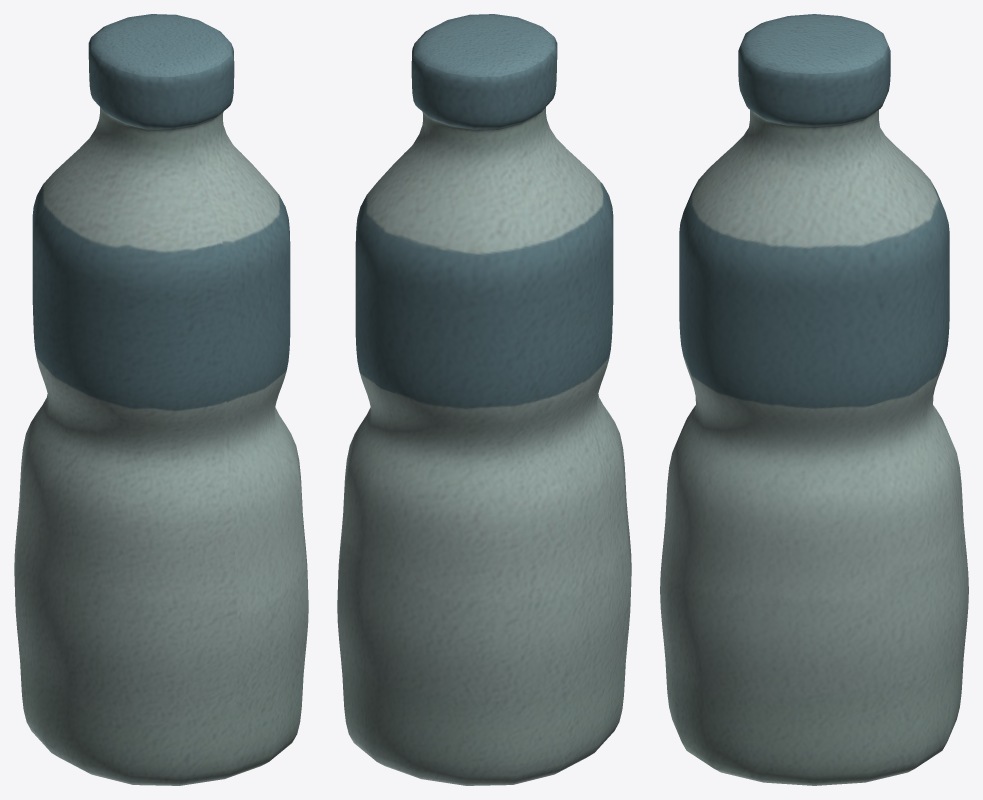
The model's file is water_bottle.fbx.
3 views of the same model, side by side, from view 1: azimuth 30°, elevation 25°; view 2: azimuth 150°, elevation 25°; view 3: azimuth 270°, elevation 25° (orthographic).
Visible parts, largest first — view 1: pCube27; view 2: pCube27; view 3: pCube27.
Part boxes in pixels (x1=…): pCube27: x1=14, y1=14, x2=308, y2=785; pCube27: x1=337, y1=14, x2=631, y2=785; pCube27: x1=660, y1=14, x2=968, y2=785.
Bounding box in the file's own units: 7.03 × 19.15 × 7.54.
1 material, 1 textured.
